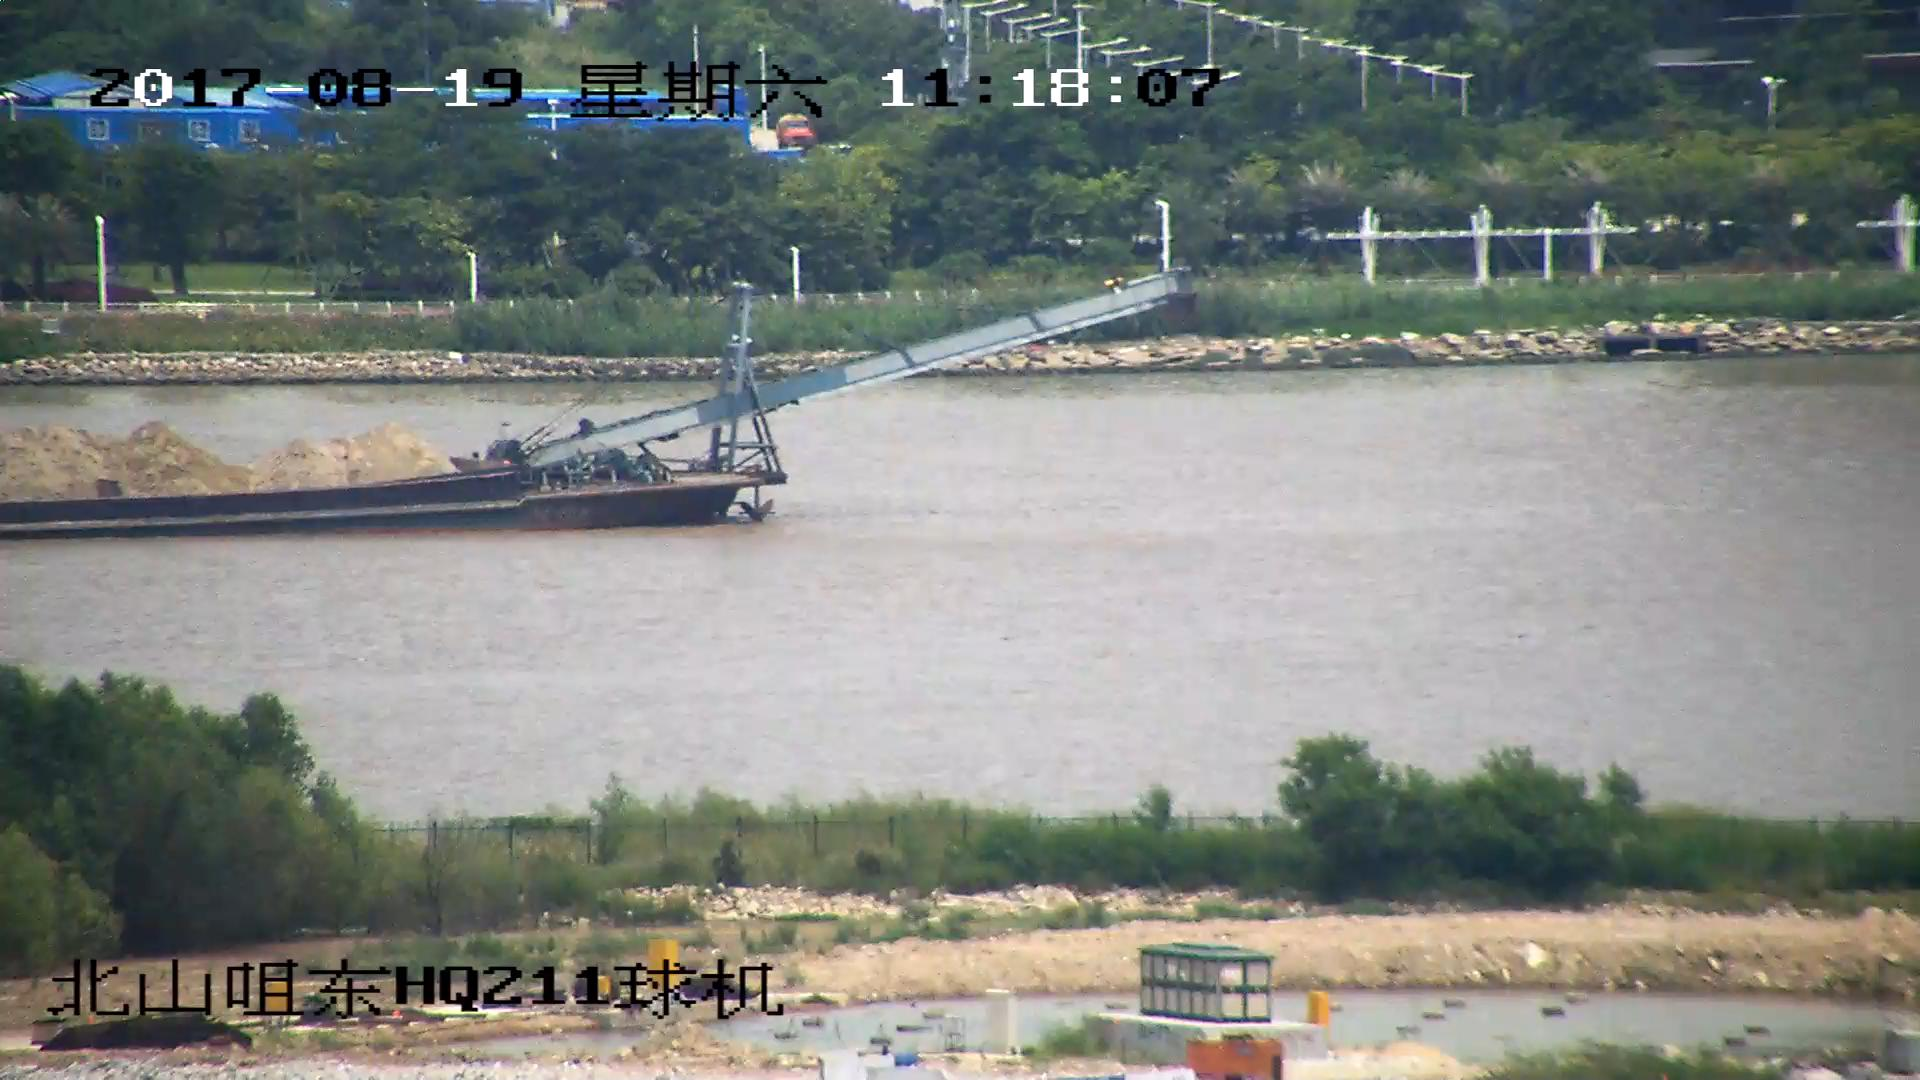ore carrier: (1, 274, 1192, 543)
